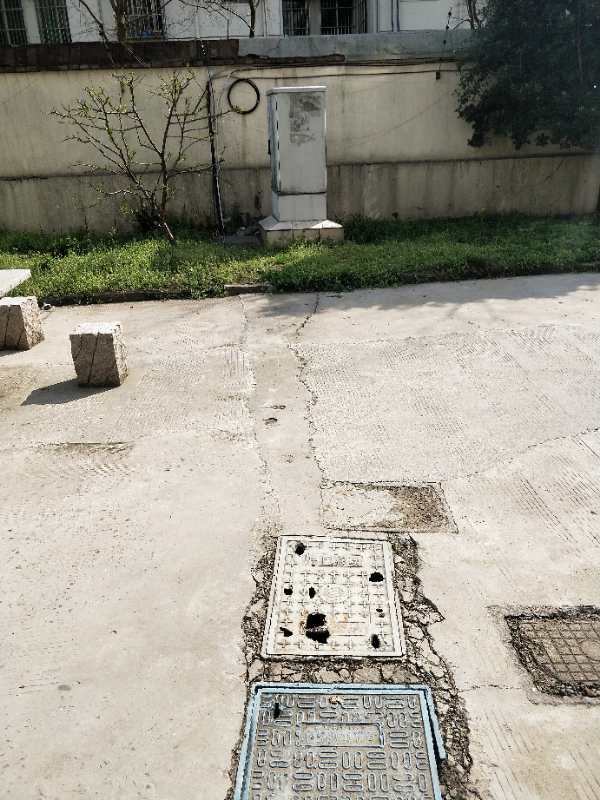well: (250, 532, 406, 659)
